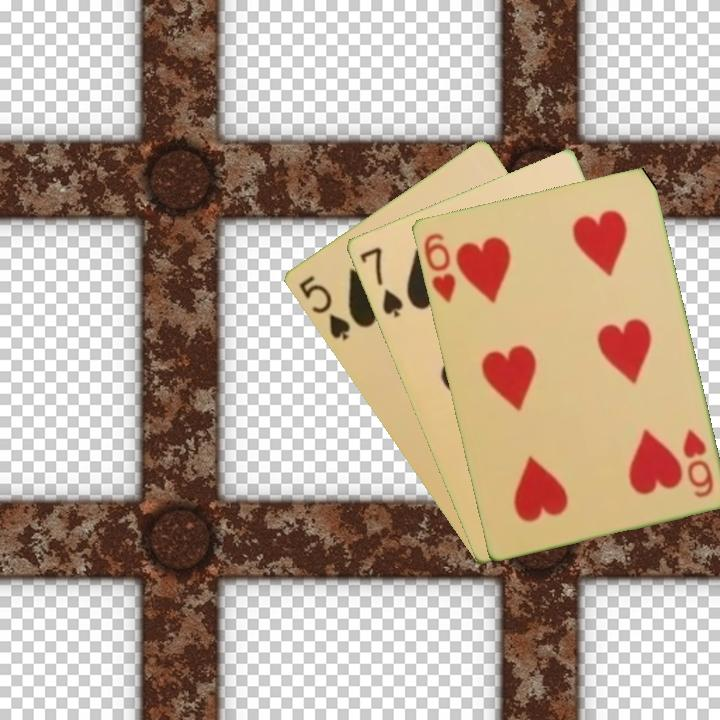5s: (294, 272, 353, 343)
6h: (419, 229, 458, 306), (678, 425, 716, 500)
7s: (356, 243, 406, 320)
